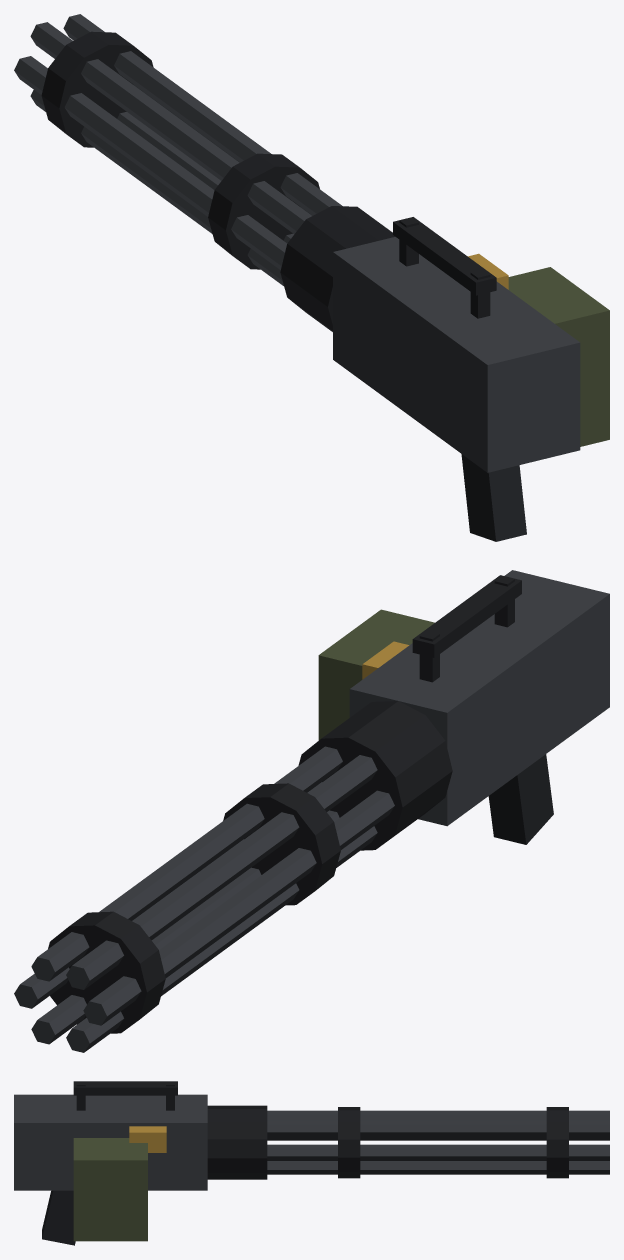
The model's file is minigun.glb.
3 views of the same model, one above another, from view 1: azimuth 30°, elevation 25°; view 2: azimuth 150°, elevation 25°; view 3: azimuth 270°, elevation 25° (orthographic). The views are drawn at different scales.
Visible parts, largest first — view 1: minigun; view 2: minigun; view 3: minigun.
Boxes of the visible parts, bbox=[...] form: minigun: bbox=[14, 14, 609, 541]; minigun: bbox=[14, 570, 609, 1052]; minigun: bbox=[14, 1081, 609, 1245].
Bounding box in the file's own units: 0.17 × 0.2336 × 0.8.
